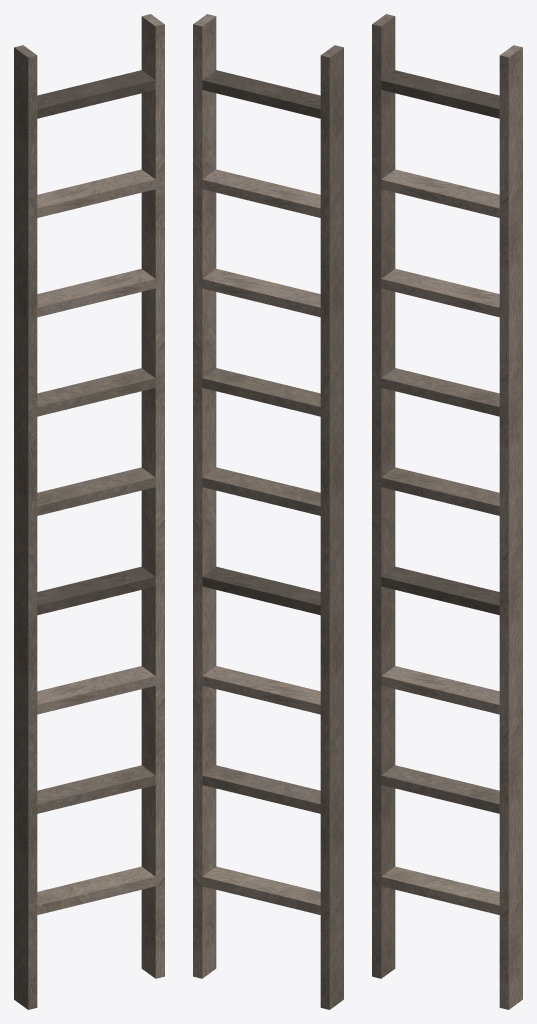
Rendered from OuthouseLadder.fbx.
The picture shows the model from 3 angles, left to right: view 1: azimuth 30°, elevation 25°; view 2: azimuth 150°, elevation 25°; view 3: azimuth 330°, elevation 25°; orthographic projection.
Visible parts, largest first — view 1: OuthouseLadder; view 2: OuthouseLadder; view 3: OuthouseLadder.
Part boxes in pixels (left/top/right/bottom): OuthouseLadder: left=14, top=14, right=164, bottom=1009; OuthouseLadder: left=193, top=14, right=343, bottom=1009; OuthouseLadder: left=372, top=14, right=522, bottom=1009.
Size of the model in its own units: 90 by 599 by 16.
